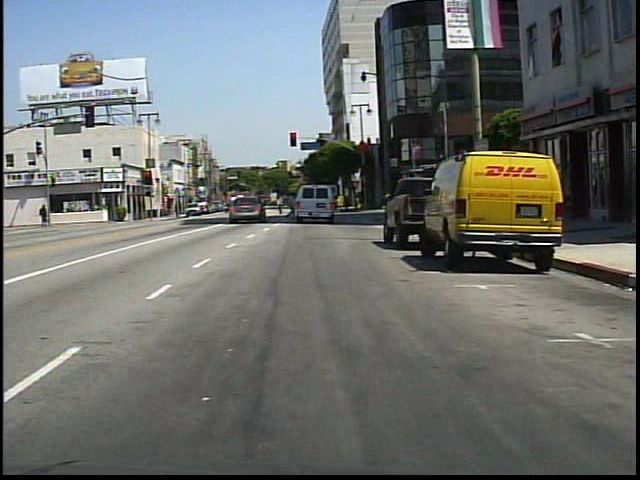person: (282, 191, 298, 223), (273, 194, 286, 218), (38, 203, 49, 224)
